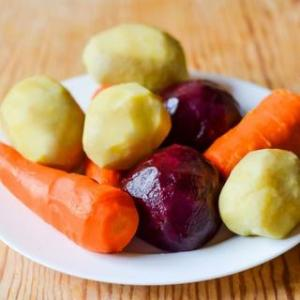beet: (123, 147, 216, 253), (159, 72, 239, 150)
carrot: (1, 133, 138, 263), (202, 74, 300, 183)
potato: (1, 73, 84, 169), (218, 142, 300, 238), (82, 24, 189, 90), (82, 82, 168, 163)
